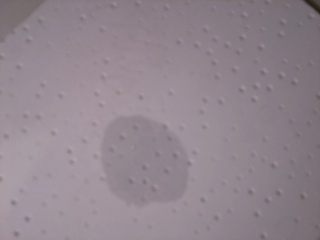Water_detected: (100, 128, 183, 204)
